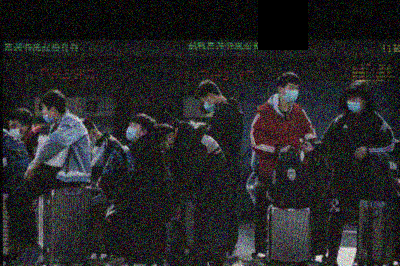mask_weared_incorrect: (39, 110, 53, 125)
with_mask: (282, 84, 298, 102), (345, 96, 361, 113), (124, 123, 139, 141), (7, 121, 21, 139), (200, 99, 214, 112)
